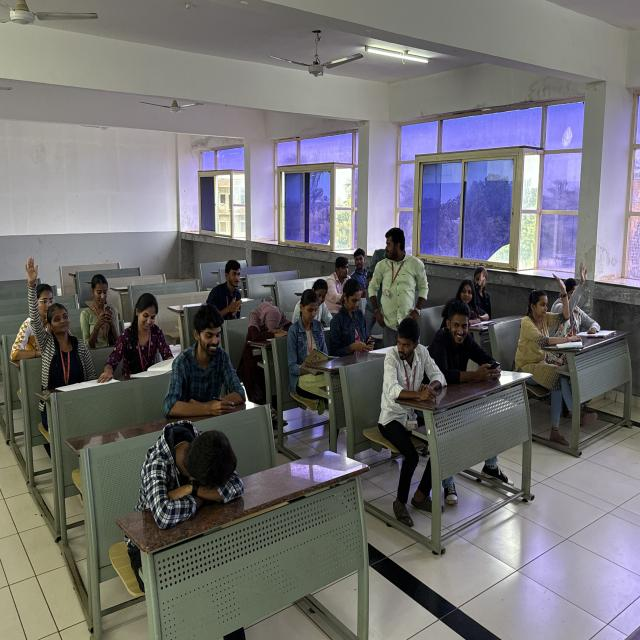Hand Rising: (20, 252, 84, 376), (522, 266, 570, 359), (558, 260, 602, 336)
Reading: (286, 292, 342, 395), (112, 291, 176, 381)
Sleeping: (131, 406, 249, 530), (242, 294, 295, 366)
Using Phone: (426, 305, 508, 408), (331, 276, 382, 359), (79, 270, 125, 345)
Writing: (163, 302, 249, 418)
